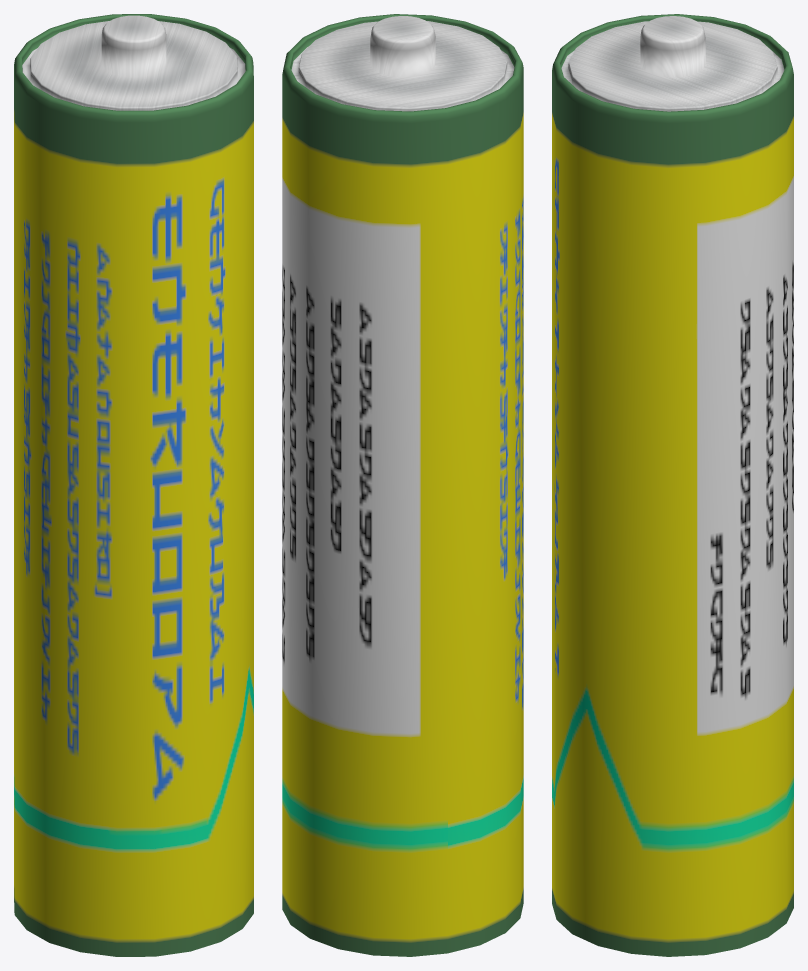
The model's file is battery.fbx.
3 views of the same model, side by side, from view 1: azimuth 30°, elevation 25°; view 2: azimuth 150°, elevation 25°; view 3: azimuth 270°, elevation 25° (orthographic).
Visible parts, largest first — view 1: pCylinder2; view 2: pCylinder2; view 3: pCylinder2.
Boxes of the visible parts, x1=… form: pCylinder2: x1=14, y1=14, x2=253, y2=956; pCylinder2: x1=282, y1=14, x2=523, y2=956; pCylinder2: x1=552, y1=14, x2=793, y2=956.
Size of the model in its own units: 0.3346 by 1.34 by 0.3346.
